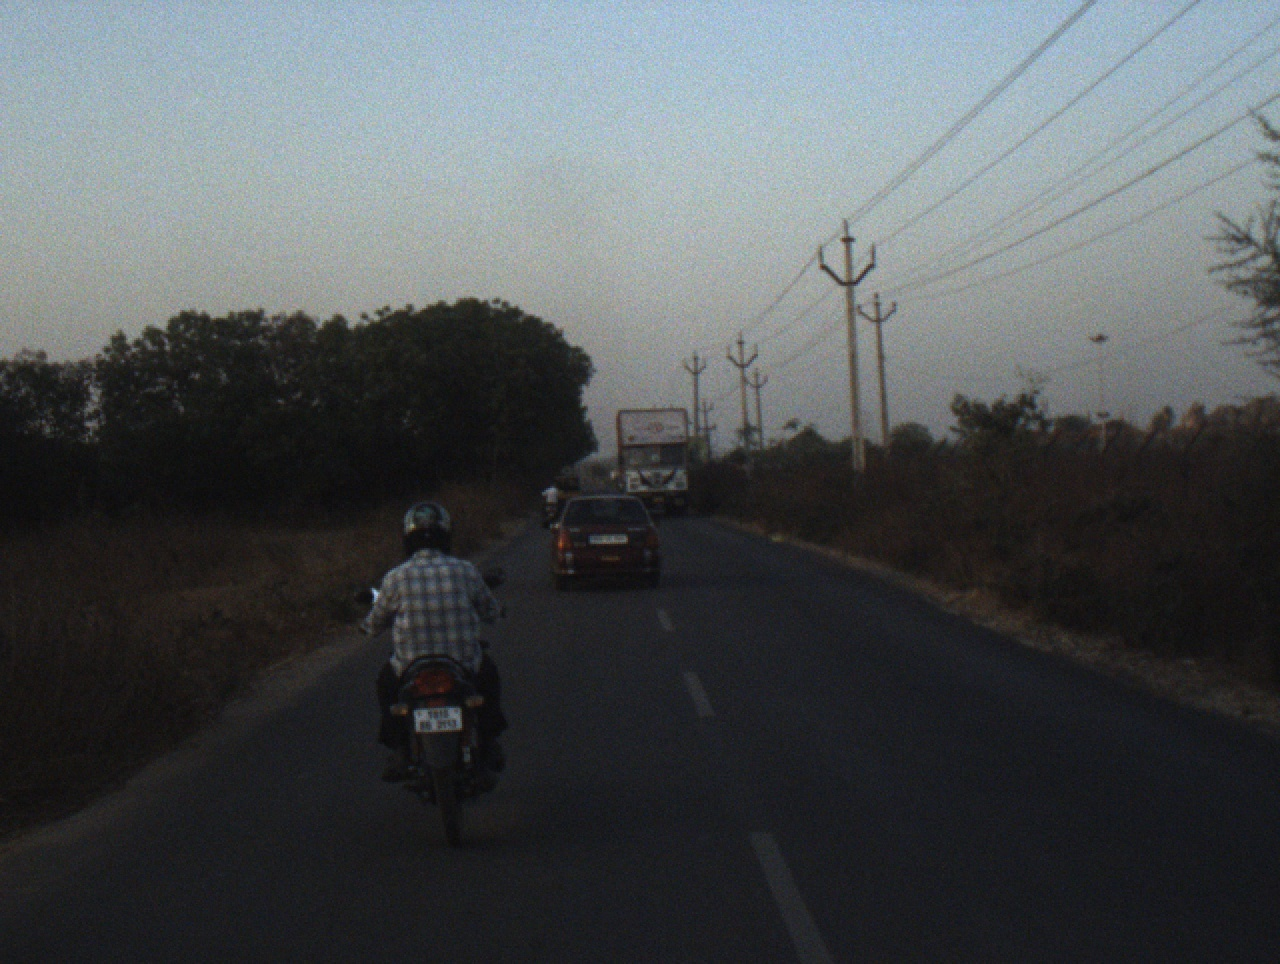autorickshaw: (554, 464, 578, 505)
car: (539, 493, 663, 592)
motorcycle: (355, 565, 512, 848), (540, 501, 557, 530)
rider: (355, 500, 508, 783), (535, 479, 562, 511)
truck: (609, 401, 694, 516)
